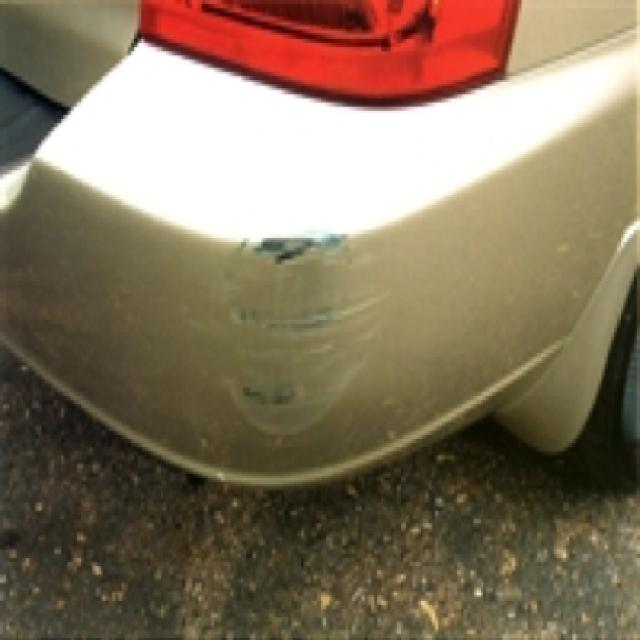Scratch: (223, 230, 348, 449)
